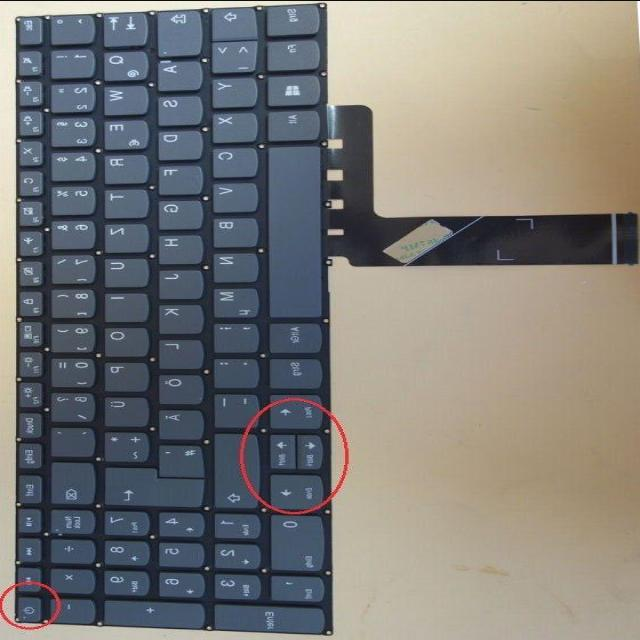0: (47, 355, 95, 386)
1: (47, 46, 94, 76)
2: (46, 80, 94, 111)
3: (47, 114, 95, 146)
4: (47, 148, 94, 178)
5: (47, 183, 94, 213)
6: (47, 217, 94, 247)
7: (47, 252, 94, 282)
8: (47, 285, 95, 316)
9: (46, 319, 95, 350)
a: (153, 57, 200, 88)
accent: (47, 424, 94, 454)
ae: (155, 406, 203, 437)
alt-left: (263, 107, 318, 139)
altgr-right: (264, 319, 320, 351)
b: (208, 214, 256, 245)
c: (208, 144, 256, 176)
caret: (46, 12, 93, 42)
comma: (209, 320, 257, 351)
d: (153, 128, 201, 158)
del: (47, 460, 94, 504)
e: (100, 117, 147, 148)
enter: (101, 465, 204, 505)
f: (154, 162, 200, 192)
g: (153, 197, 201, 227)
h: (153, 232, 200, 262)
hash: (153, 442, 201, 474)
i: (101, 290, 147, 320)
j: (154, 267, 201, 297)
k: (154, 302, 201, 332)
keyboard: (8, 2, 336, 637)
l: (155, 336, 203, 366)
less: (206, 37, 255, 70)
m: (209, 284, 257, 316)
minus: (209, 390, 256, 426)
n: (209, 249, 257, 280)
o: (101, 324, 148, 354)
oe: (153, 371, 202, 402)
p: (101, 359, 148, 390)
plus: (100, 429, 148, 461)
point: (209, 355, 257, 386)
q: (100, 48, 147, 79)
r: (101, 151, 147, 182)
s: (153, 92, 200, 123)
shift-left: (207, 4, 255, 36)
shift-lock: (152, 7, 201, 53)
shift-right: (208, 430, 256, 508)
space: (263, 142, 320, 316)
ss: (47, 389, 94, 420)
strg-left: (261, 1, 318, 33)
strg-right: (264, 355, 321, 387)
t: (101, 186, 147, 216)
tab: (99, 10, 147, 44)
u: (100, 255, 148, 285)
ue: (100, 394, 148, 424)
v: (208, 180, 256, 211)
w: (99, 83, 147, 113)
x: (208, 110, 256, 140)
y: (208, 75, 256, 106)
z: (101, 220, 148, 250)
